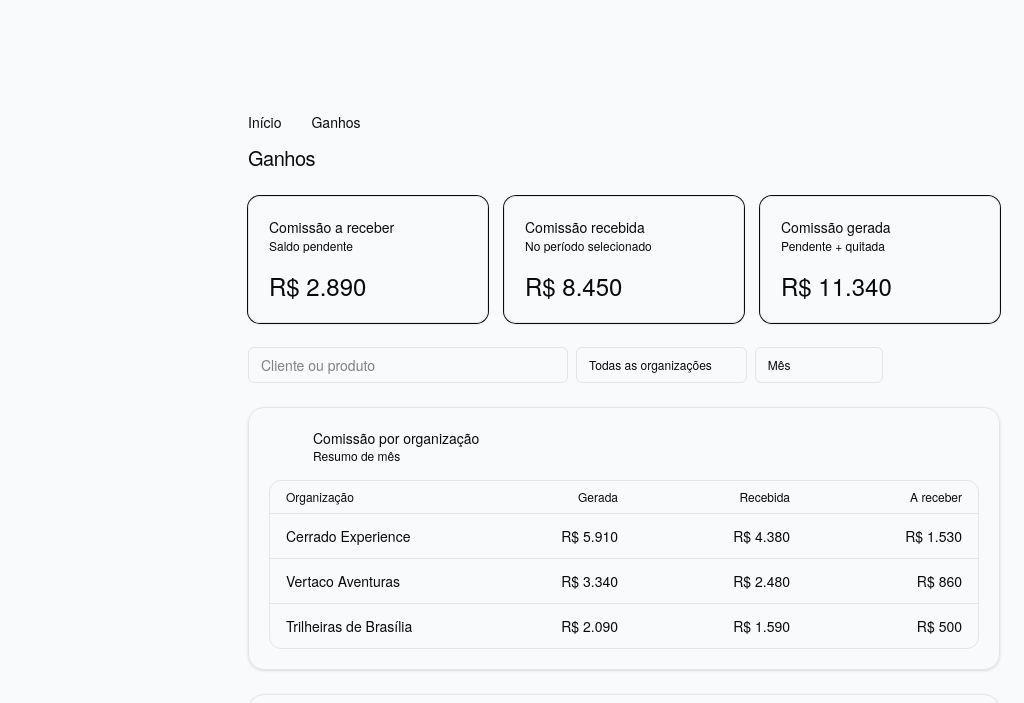
Scenario: GanhosPage › filters displayed commission rows by period alone
Expected: the text "Pedro Henrique Barbosa Costa" is not shown
Click the dropdown named "Período" at (819, 365), box x1=755 y1=347 x2=883 y2=383
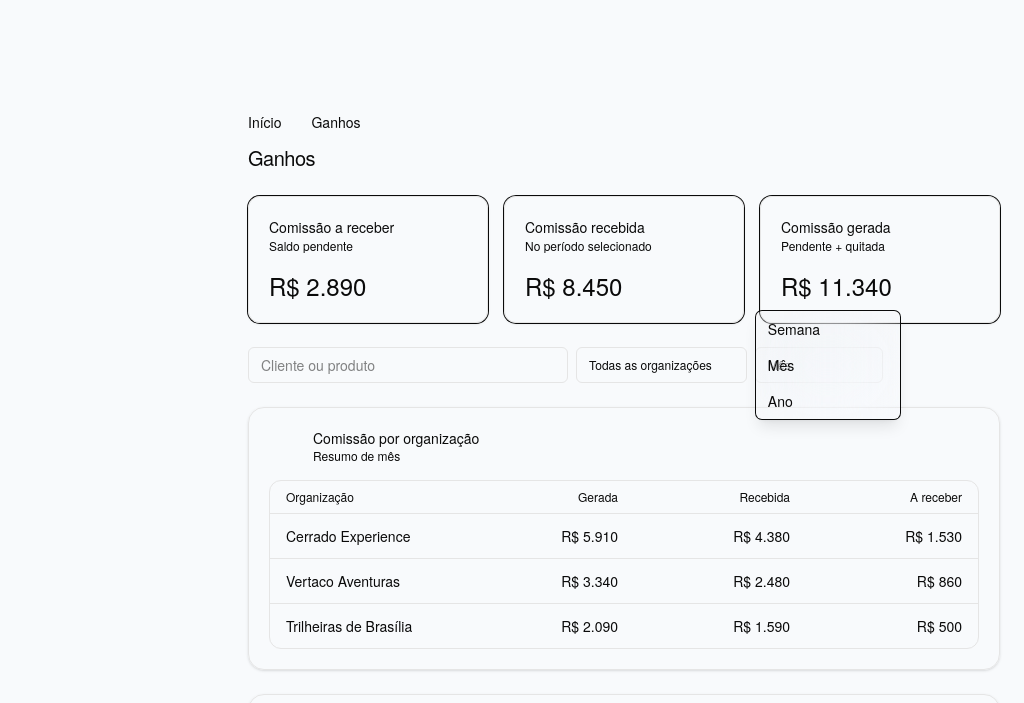
Click the option "Ano" at (780, 401), box x1=768 y1=391 x2=793 y2=411
(page scrolled)
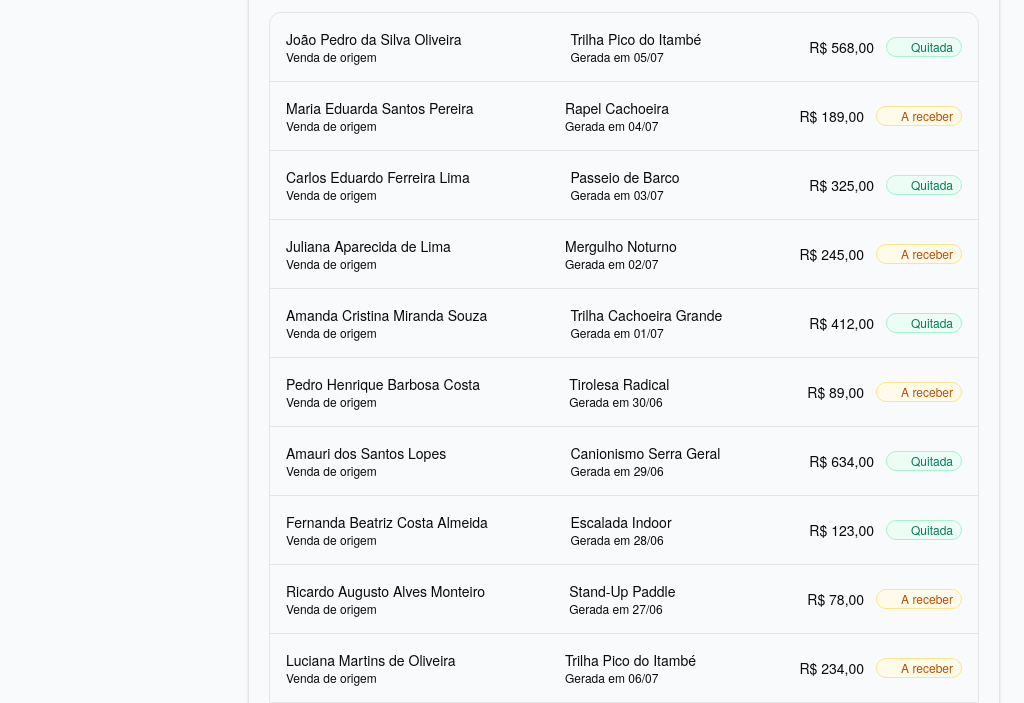
Expected: the text "João Pedro da Silva Oliveira" is shown, x1=286 y1=29 x2=462 y2=49
Expected: the text "Pedro Henrique Barbosa Costa" is shown, x1=286 y1=374 x2=480 y2=394
